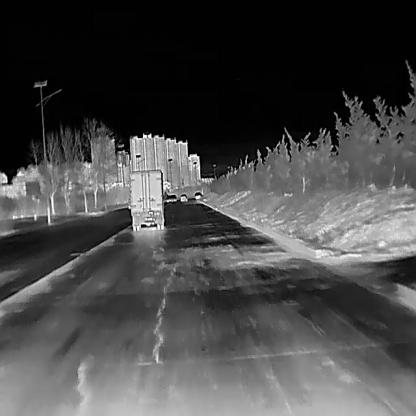car: (168, 193, 176, 201), (180, 192, 188, 200), (193, 191, 202, 198)
truck: (128, 167, 166, 231)
